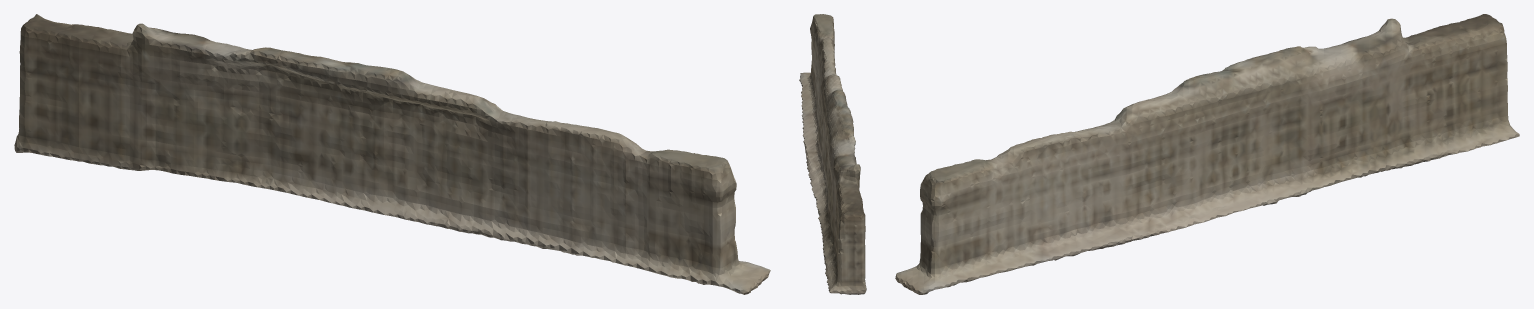
File: avenida-francia.glb
3 renders of one model, left to right at view 1: azimuth 30°, elevation 25°; view 2: azimuth 150°, elevation 25°; view 3: azimuth 270°, elevation 25°, orthographic. The views are drawn at different scales.
Parts seen in each view (by area): view 1: world; view 2: world; view 3: world.
Boxes of the visible parts, x1,y1,x2,y2 form: world: (14,14,770,294); world: (799,14,866,294); world: (895,14,1519,294).
Size of the model in its own units: 1.26 by 0.4343 by 1.82.
